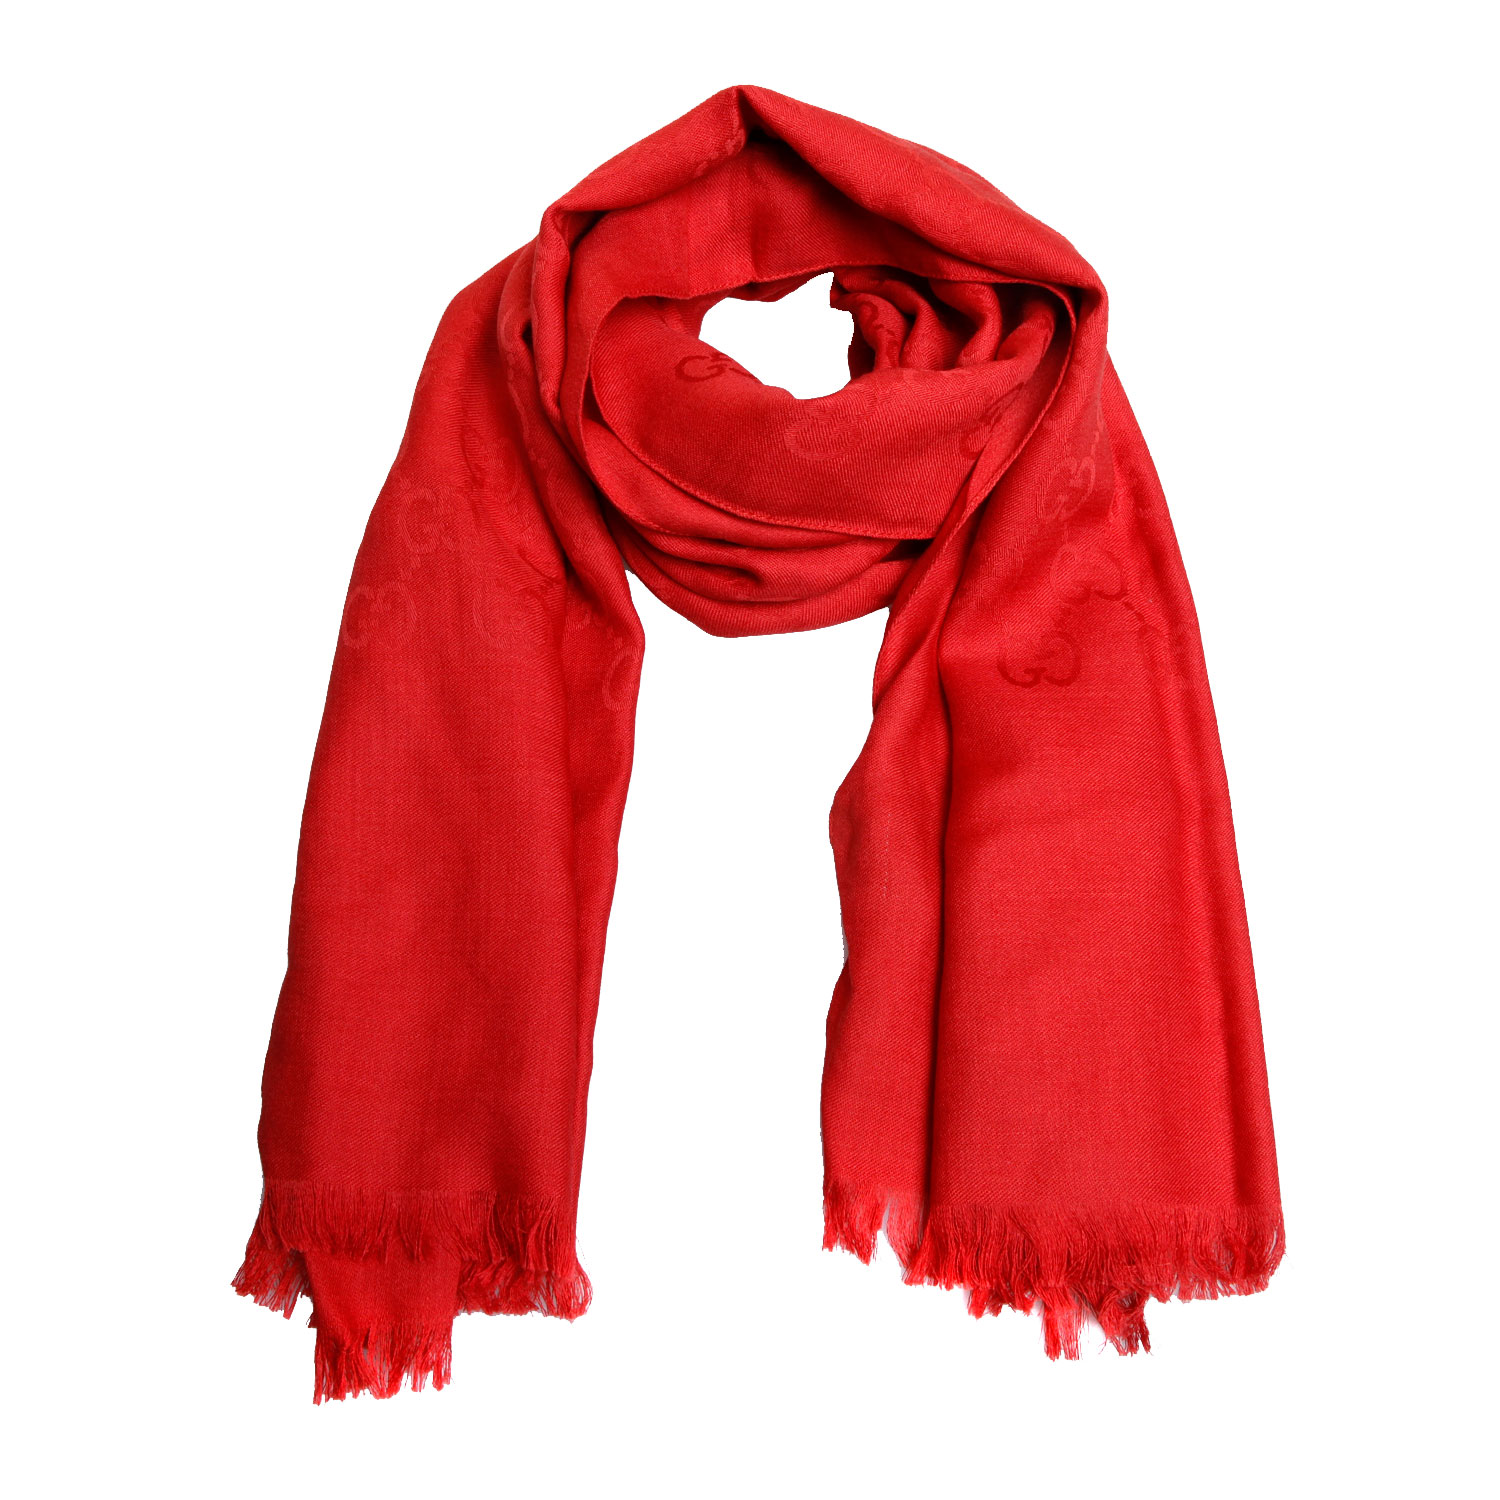flexible: (240, 73, 1302, 1448)
